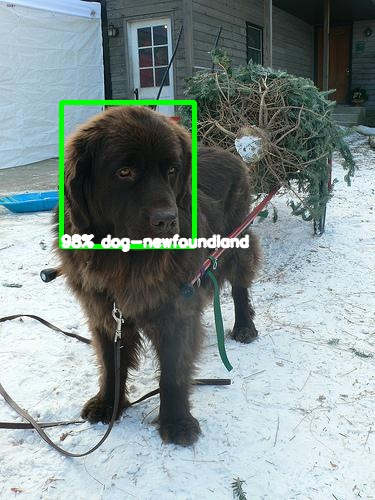dog-newfoundland: (60, 106, 192, 251)
